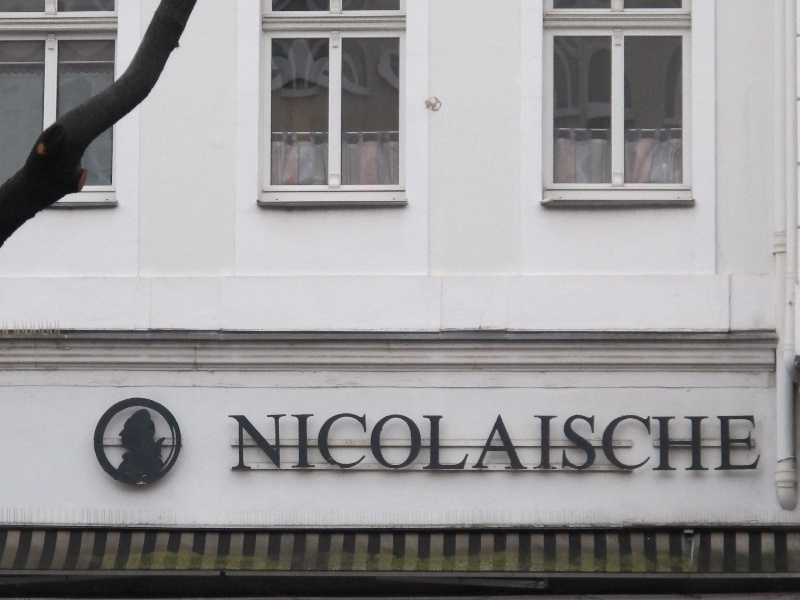text: (241, 415, 256, 474), (257, 415, 272, 474), (273, 415, 288, 474), (289, 415, 304, 474), (305, 415, 320, 474), (321, 415, 336, 474), (337, 415, 352, 474), (353, 415, 368, 474), (369, 415, 384, 474), (385, 415, 400, 474), (401, 415, 416, 474), (417, 415, 432, 474), (433, 415, 448, 474), (449, 415, 464, 474), (465, 415, 480, 474), (481, 415, 496, 474), (497, 415, 512, 474), (513, 415, 528, 474), (529, 415, 544, 474), (545, 415, 560, 474), (561, 415, 576, 474), (577, 415, 592, 474), (593, 415, 608, 474), (609, 415, 624, 474), (625, 415, 640, 474), (641, 415, 656, 474), (657, 415, 672, 474), (673, 415, 688, 474), (689, 415, 704, 474), (705, 415, 720, 474), (721, 415, 736, 474), (737, 415, 752, 474), (228, 415, 240, 474), (753, 415, 763, 474)
